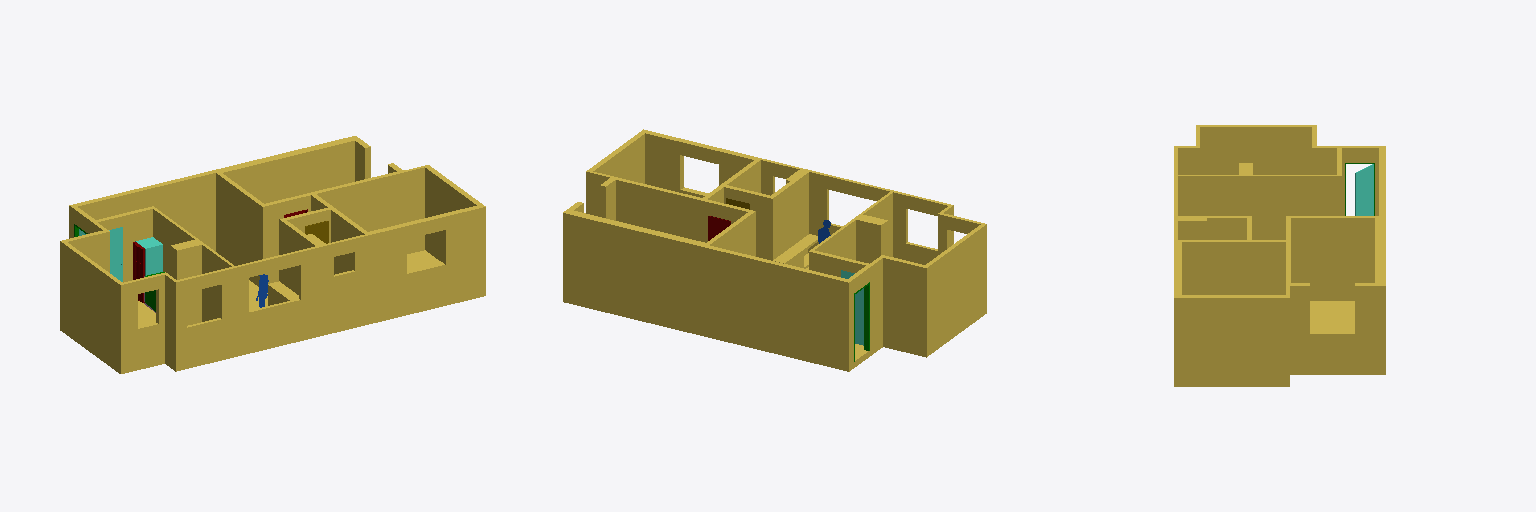
3 views of the same model, side by side, from view 1: azimuth 30°, elevation 25°; view 2: azimuth 150°, elevation 25°; view 3: azimuth 270°, elevation 25° (orthographic).
Parts seen in each view (by area): view 1: apto_mauro_001, Group_007, porta_007; view 2: apto_mauro_001, porta_007; view 3: apto_mauro_001, porta_003, Group_062.
Boxes of the visible parts, <box> form: apto_mauro_001: <box>60,136,485,373</box>; Group_007: <box>135,237,162,275</box>; porta_007: <box>109,227,122,281</box>; apto_mauro_001: <box>563,129,986,371</box>; porta_007: <box>841,270,863,345</box>; apto_mauro_001: <box>1174,125,1385,386</box>; porta_003: <box>1255,255,1282,294</box>; Group_062: <box>1355,164,1373,215</box>.
Bounding box in the file's own units: 442 × 106 × 228.